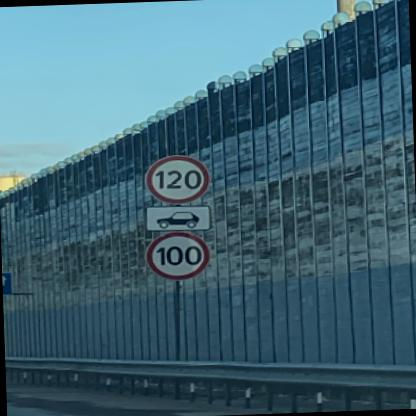speedlimit: (144, 154, 208, 203), (144, 230, 208, 278)
